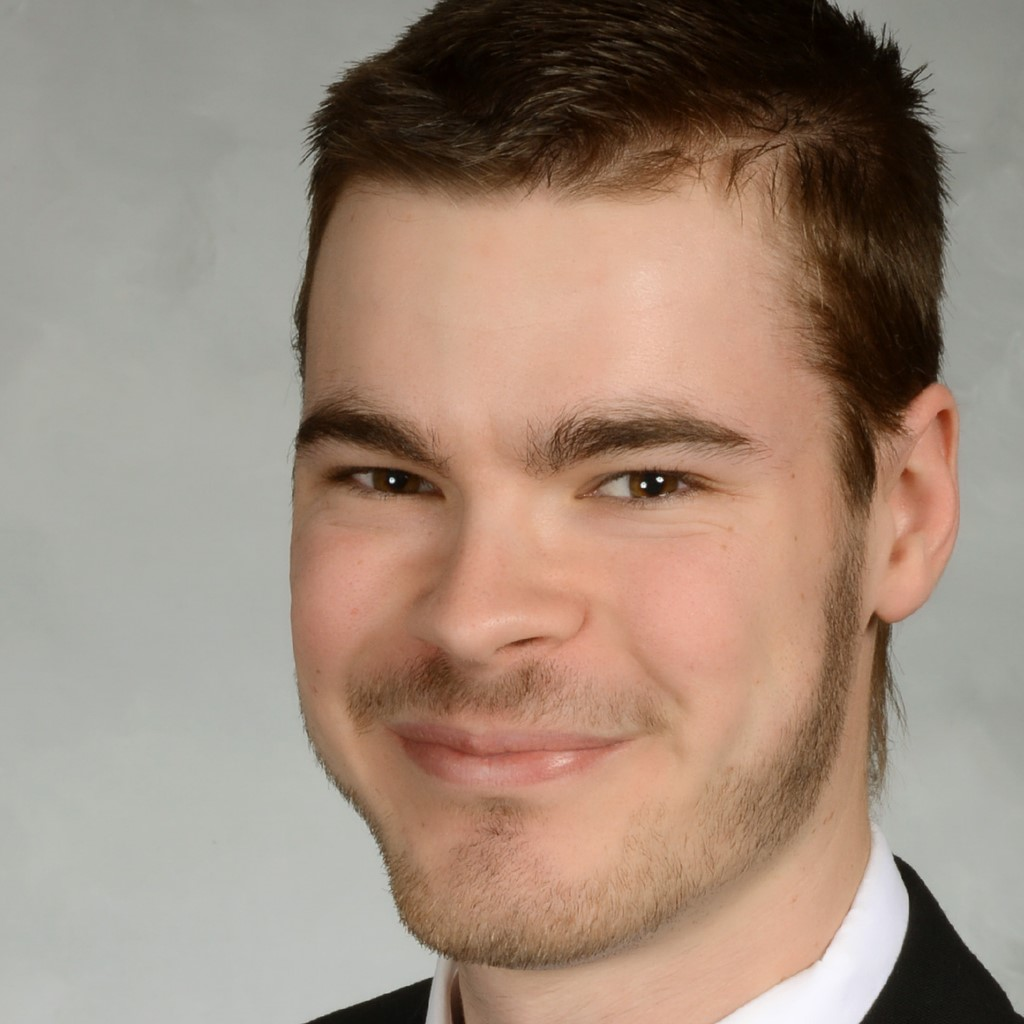sin_mascara: (289, 65, 962, 972)
